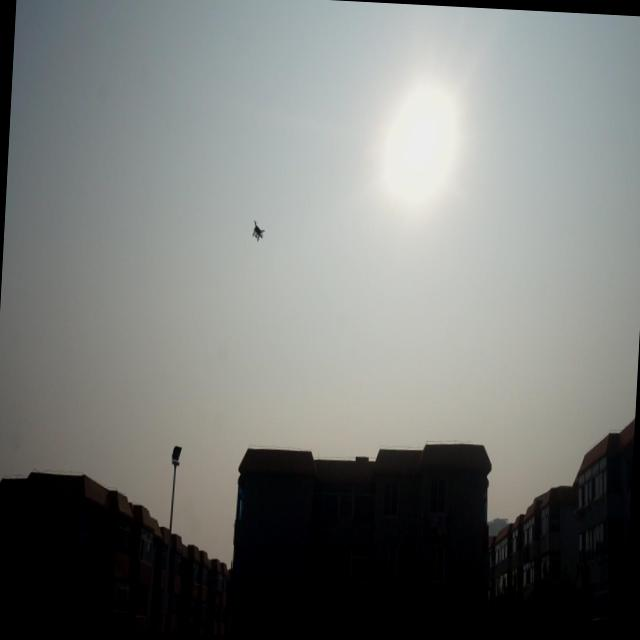drone: (252, 217, 264, 245)
